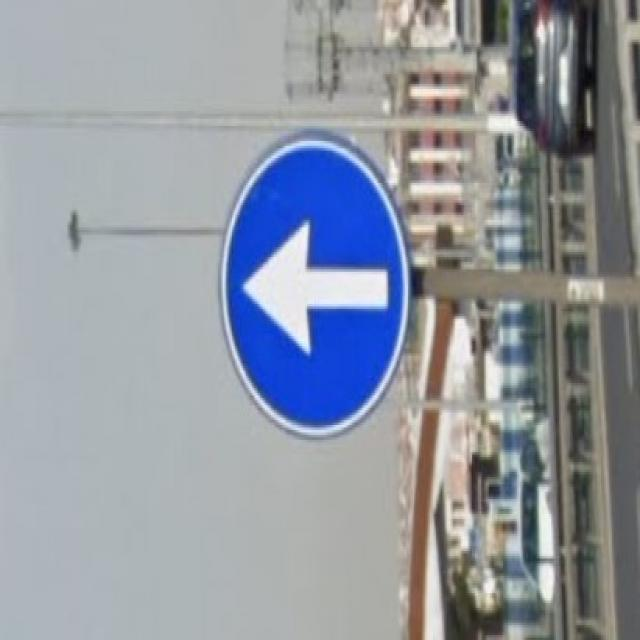Turn Left: (224, 131, 416, 452)
